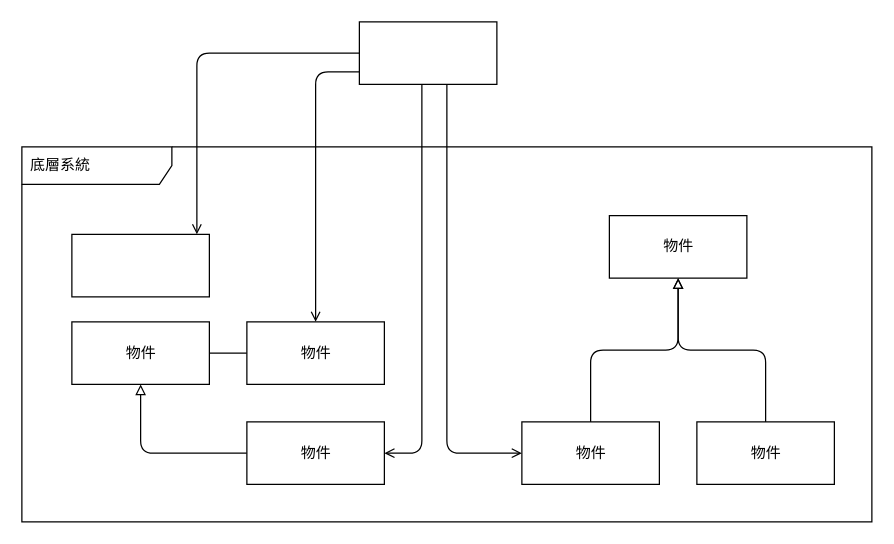
This 894x544 diagram has some shape labels left out. The box of each missing label's shape, as (x1, y1, x2, y2) in pixels:
Facade: (358, 21, 497, 84)
功能A: (71, 233, 209, 297)
